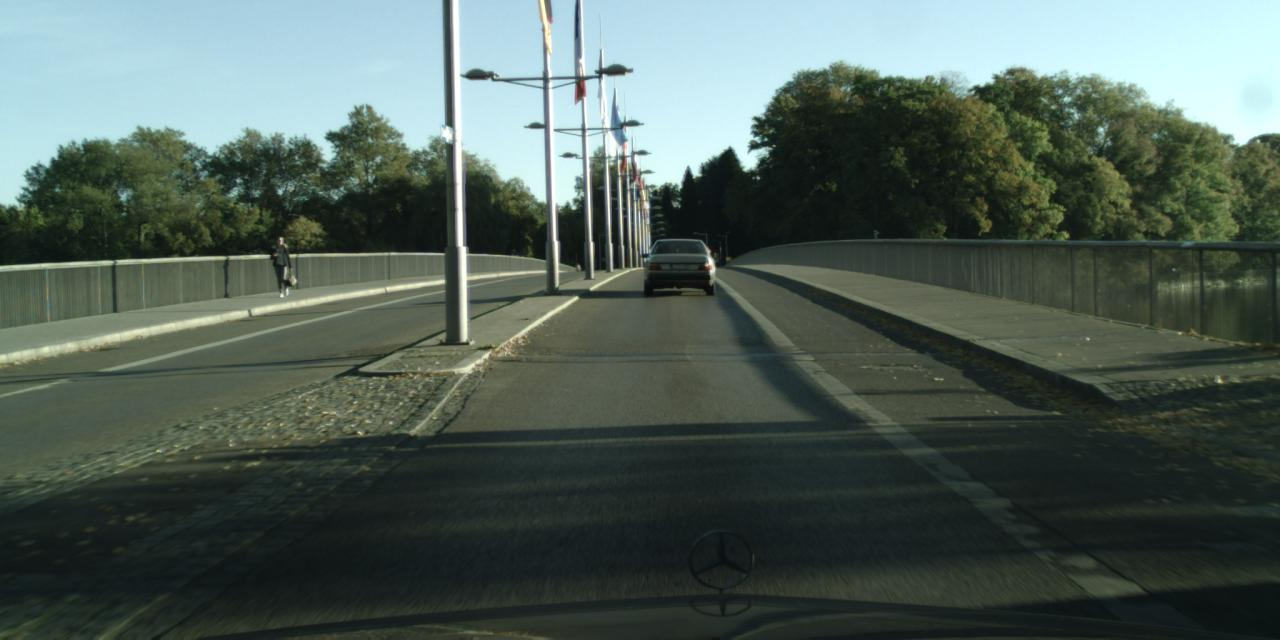ped: (269, 237, 293, 295)
